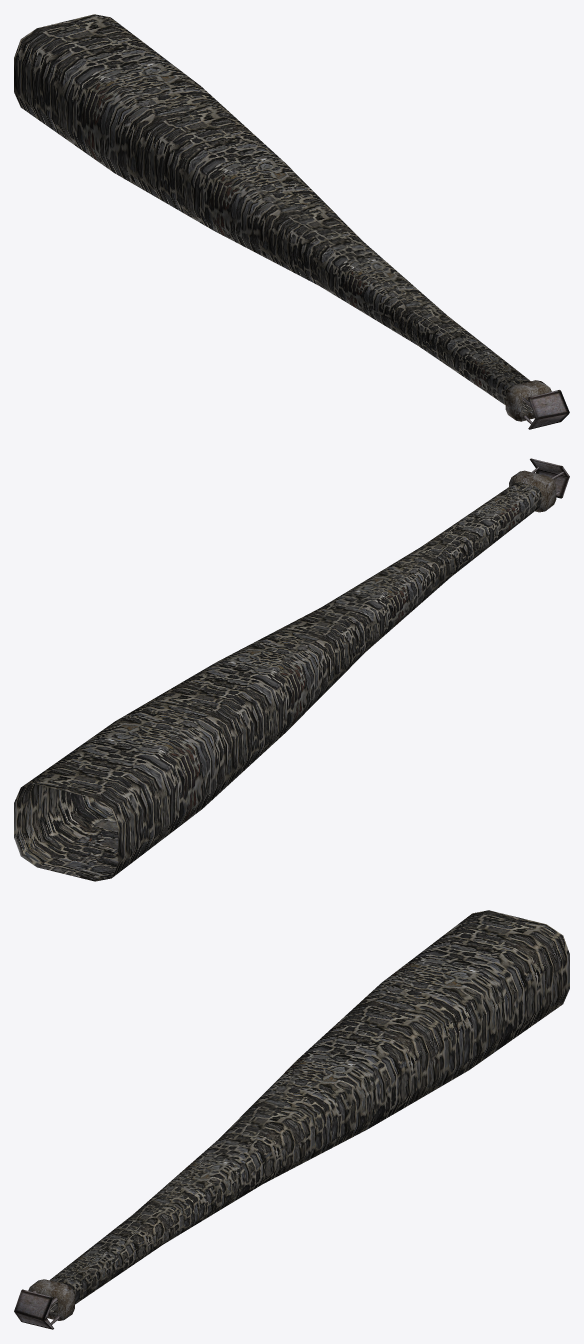
Rendered from ex_common_chimney_tall.obj.
3 renders of one model, top to bottom at view 1: azimuth 30°, elevation 25°; view 2: azimuth 150°, elevation 25°; view 3: azimuth 330°, elevation 25°, orthographic.
Parts seen in each view (by area): view 1: Tri Ex_common_chimney_tall 0, Tri Ex_common_chimney_tall 1, Tri Ex_common_chimney_tall 2; view 2: Tri Ex_common_chimney_tall 0, Tri Ex_common_chimney_tall 2, Tri Ex_common_chimney_tall 1; view 3: Tri Ex_common_chimney_tall 0, Tri Ex_common_chimney_tall 1, Tri Ex_common_chimney_tall 2.
Boxes of the visible parts, x1=… form: Tri Ex_common_chimney_tall 0: x1=14, y1=14, x2=533, y2=414; Tri Ex_common_chimney_tall 1: x1=522, y1=390, x2=569, y2=429; Tri Ex_common_chimney_tall 2: x1=505, y1=380, x2=551, y2=421; Tri Ex_common_chimney_tall 0: x1=14, y1=482, x2=541, y2=881; Tri Ex_common_chimney_tall 2: x1=509, y1=470, x2=556, y2=512; Tri Ex_common_chimney_tall 1: x1=530, y1=458, x2=569, y2=498; Tri Ex_common_chimney_tall 0: x1=49, y1=910, x2=569, y2=1314; Tri Ex_common_chimney_tall 1: x1=14, y1=1289, x2=59, y2=1329; Tri Ex_common_chimney_tall 2: x1=28, y1=1279, x2=74, y2=1320.
Bounding box in the file's own units: 166 × 126 × 1350.
